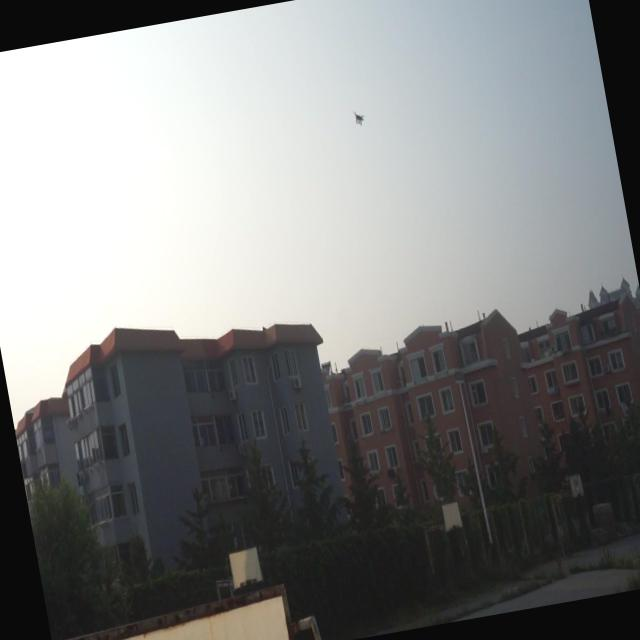drone: (350, 106, 368, 129)
